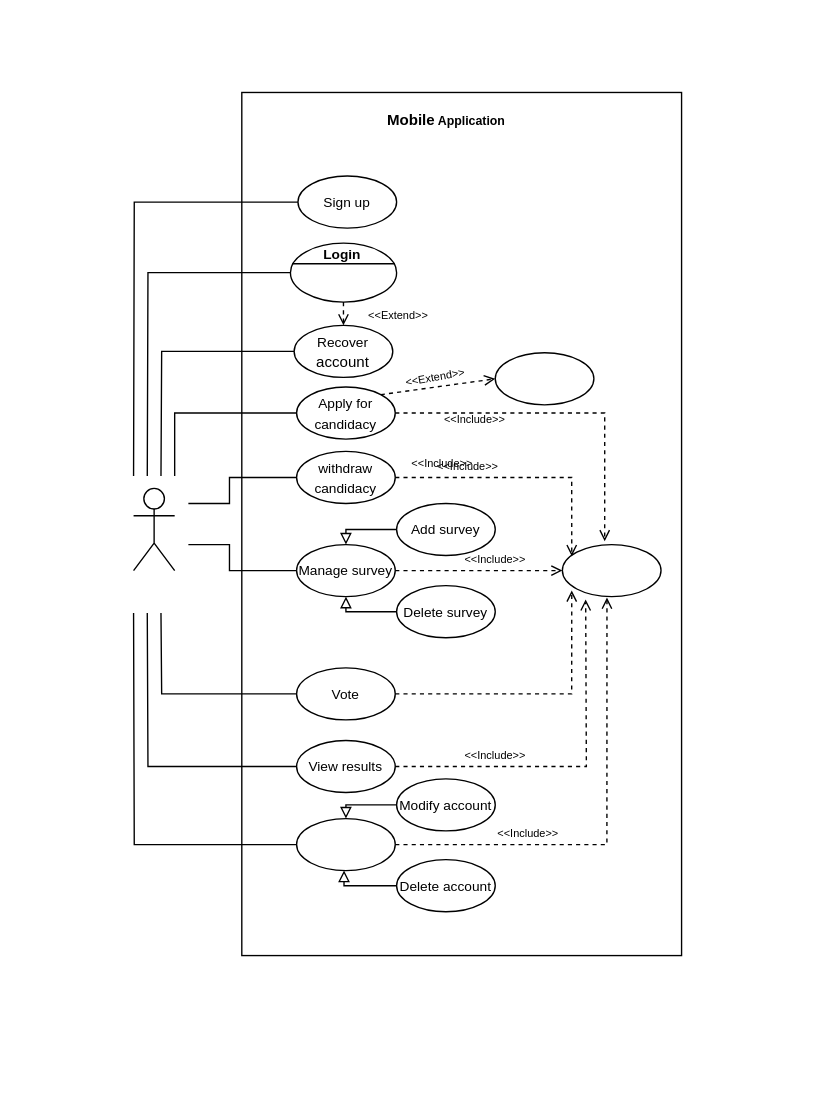
The diagram is 814 pixels wide and 1112 high, and some of its shapes have lost their labels. The shapes that lost their labels are listed below. From the top down, each one's box as (x1, y1, x2, y2) in pixels, then its label:
(289, 242, 397, 302): extension points Recover account
(494, 351, 594, 405): Get receipt
(132, 487, 175, 571): Student
(561, 543, 661, 597): Authenticate
(295, 817, 395, 871): Manage Account
